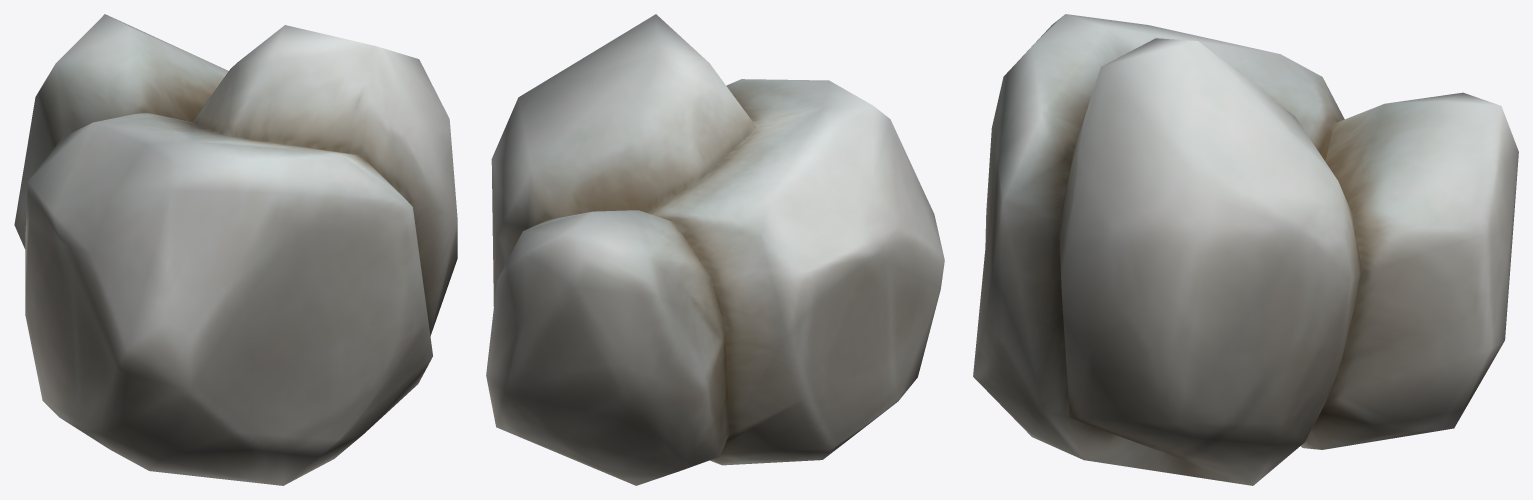
The model's file is SM_Gem_Silver_007.fbx.
3 views of the same model, side by side, from view 1: azimuth 30°, elevation 25°; view 2: azimuth 150°, elevation 25°; view 3: azimuth 270°, elevation 25° (orthographic). The views are drawn at different scales.
Parts seen in each view (by area): view 1: SM_Gem_Silver_007; view 2: SM_Gem_Silver_007; view 3: SM_Gem_Silver_007.
Part boxes in pixels (x1=…): SM_Gem_Silver_007: x1=14, y1=14, x2=457, y2=485; SM_Gem_Silver_007: x1=486, y1=14, x2=944, y2=485; SM_Gem_Silver_007: x1=973, y1=14, x2=1518, y2=485.
Bounding box in the file's own units: 23.09 × 21.25 × 24.95.
